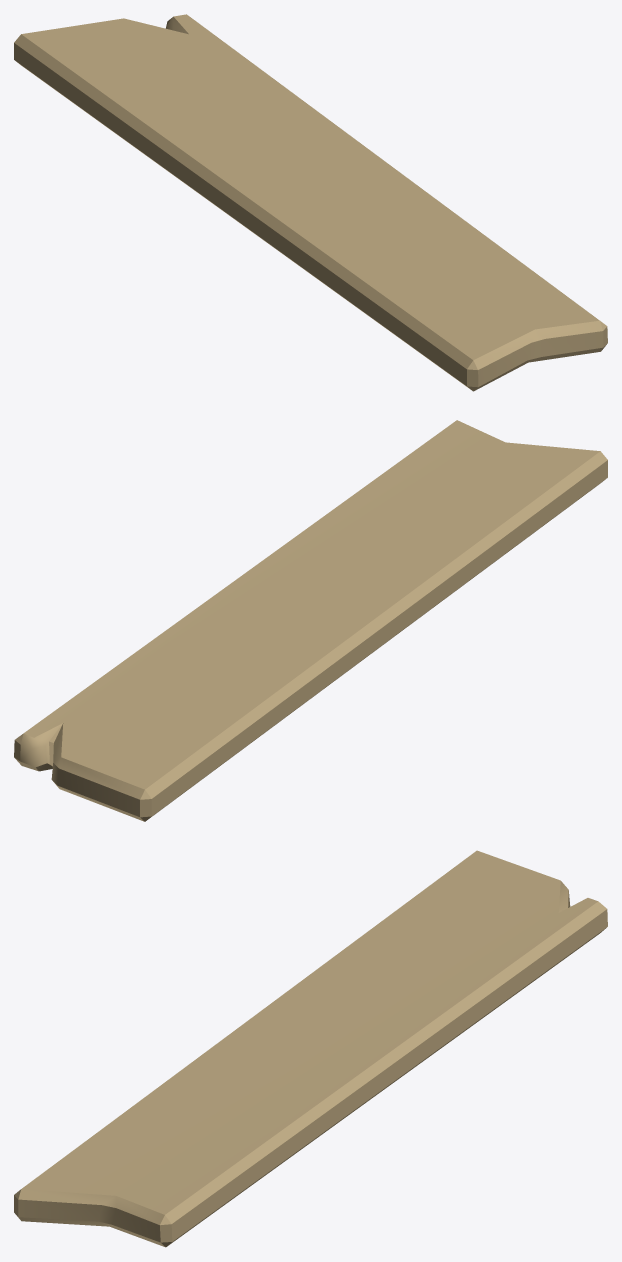
The model's file is bridge_p2.fbx.
3 renders of one model, top to bottom at view 1: azimuth 30°, elevation 25°; view 2: azimuth 150°, elevation 25°; view 3: azimuth 330°, elevation 25°, orthographic. The views are drawn at different scales.
Parts seen in each view (by area): view 1: bridge_p2; view 2: bridge_p2; view 3: bridge_p2.
Part boxes in pixels (x1=…): bridge_p2: x1=14, y1=14, x2=607, y2=391; bridge_p2: x1=14, y1=420, x2=607, y2=821; bridge_p2: x1=14, y1=850, x2=607, y2=1247.
Size of the model in its own units: 41.67 by 8.66 by 210.
